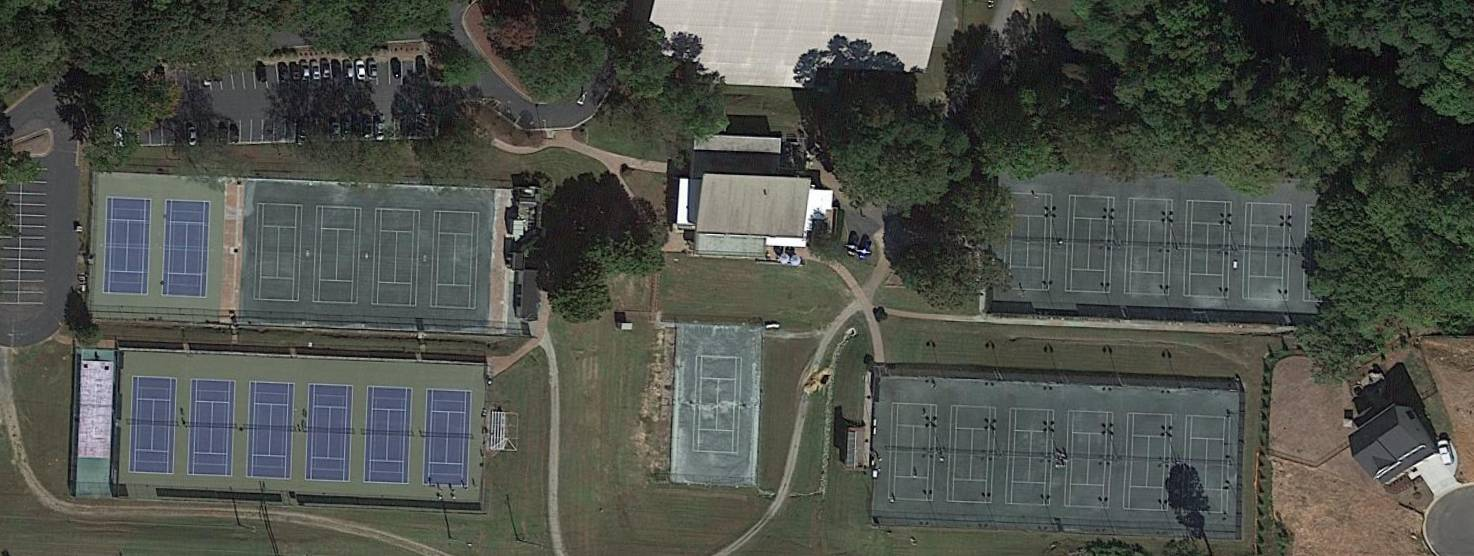tennis court: (159, 199, 213, 300), (945, 405, 998, 504), (1063, 410, 1116, 509), (245, 381, 297, 481), (1064, 195, 1117, 293), (887, 402, 939, 501), (312, 205, 364, 304), (1002, 192, 1054, 291), (1181, 415, 1233, 514), (253, 202, 304, 302), (371, 207, 422, 307), (1123, 412, 1174, 512), (187, 379, 238, 478), (1182, 200, 1233, 299), (1242, 202, 1293, 301), (422, 389, 474, 486), (102, 197, 152, 297), (430, 211, 481, 309), (128, 376, 179, 474), (363, 386, 414, 484), (692, 356, 743, 453), (305, 384, 355, 482), (1124, 198, 1174, 296), (1005, 408, 1055, 506)
